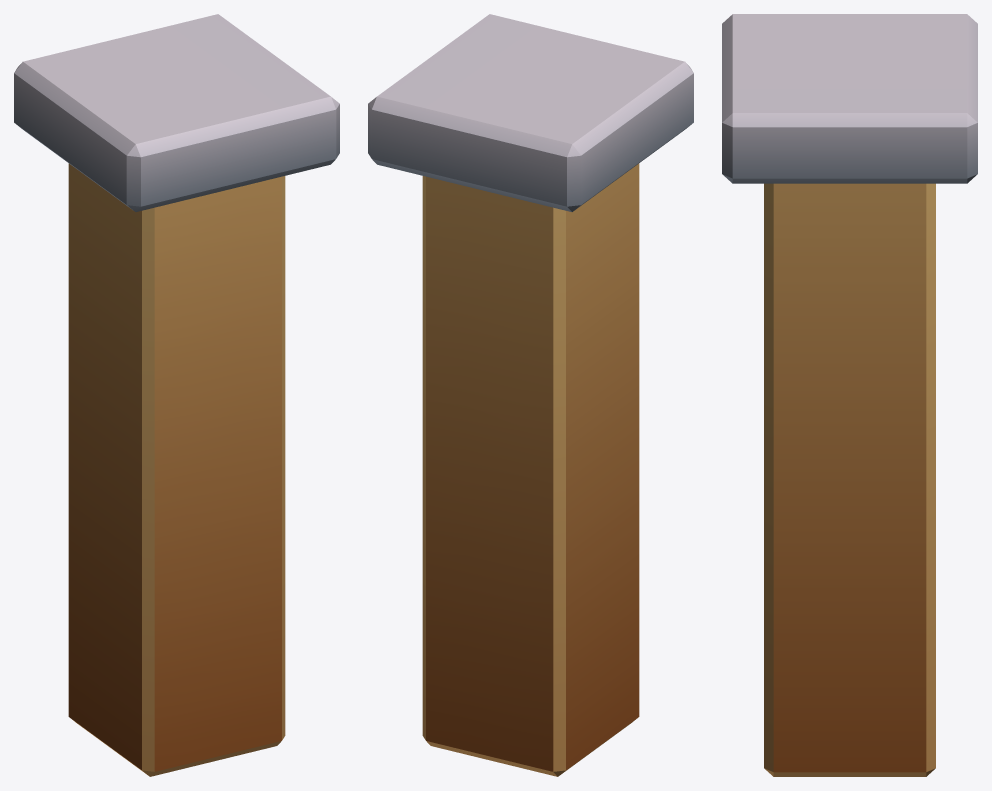
Rendered from lpb_fence_7.fbx.
3 views of the same model, side by side, from view 1: azimuth 30°, elevation 25°; view 2: azimuth 150°, elevation 25°; view 3: azimuth 270°, elevation 25° (orthographic). The views are drawn at different scales.
Parts seen in each view (by area): view 1: fence7; view 2: fence7; view 3: fence7.
Part boxes in pixels (bbox=[...]): fence7: bbox=[14, 14, 339, 776]; fence7: bbox=[368, 14, 693, 776]; fence7: bbox=[722, 14, 977, 776].
Size of the model in its own units: 113 by 333 by 113.
